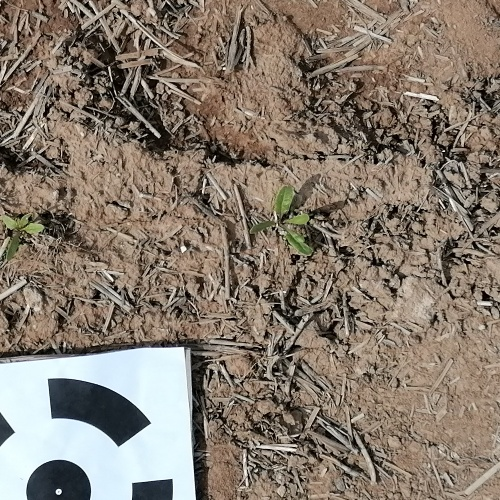beet: (247, 184, 314, 258), (0, 210, 44, 260)
